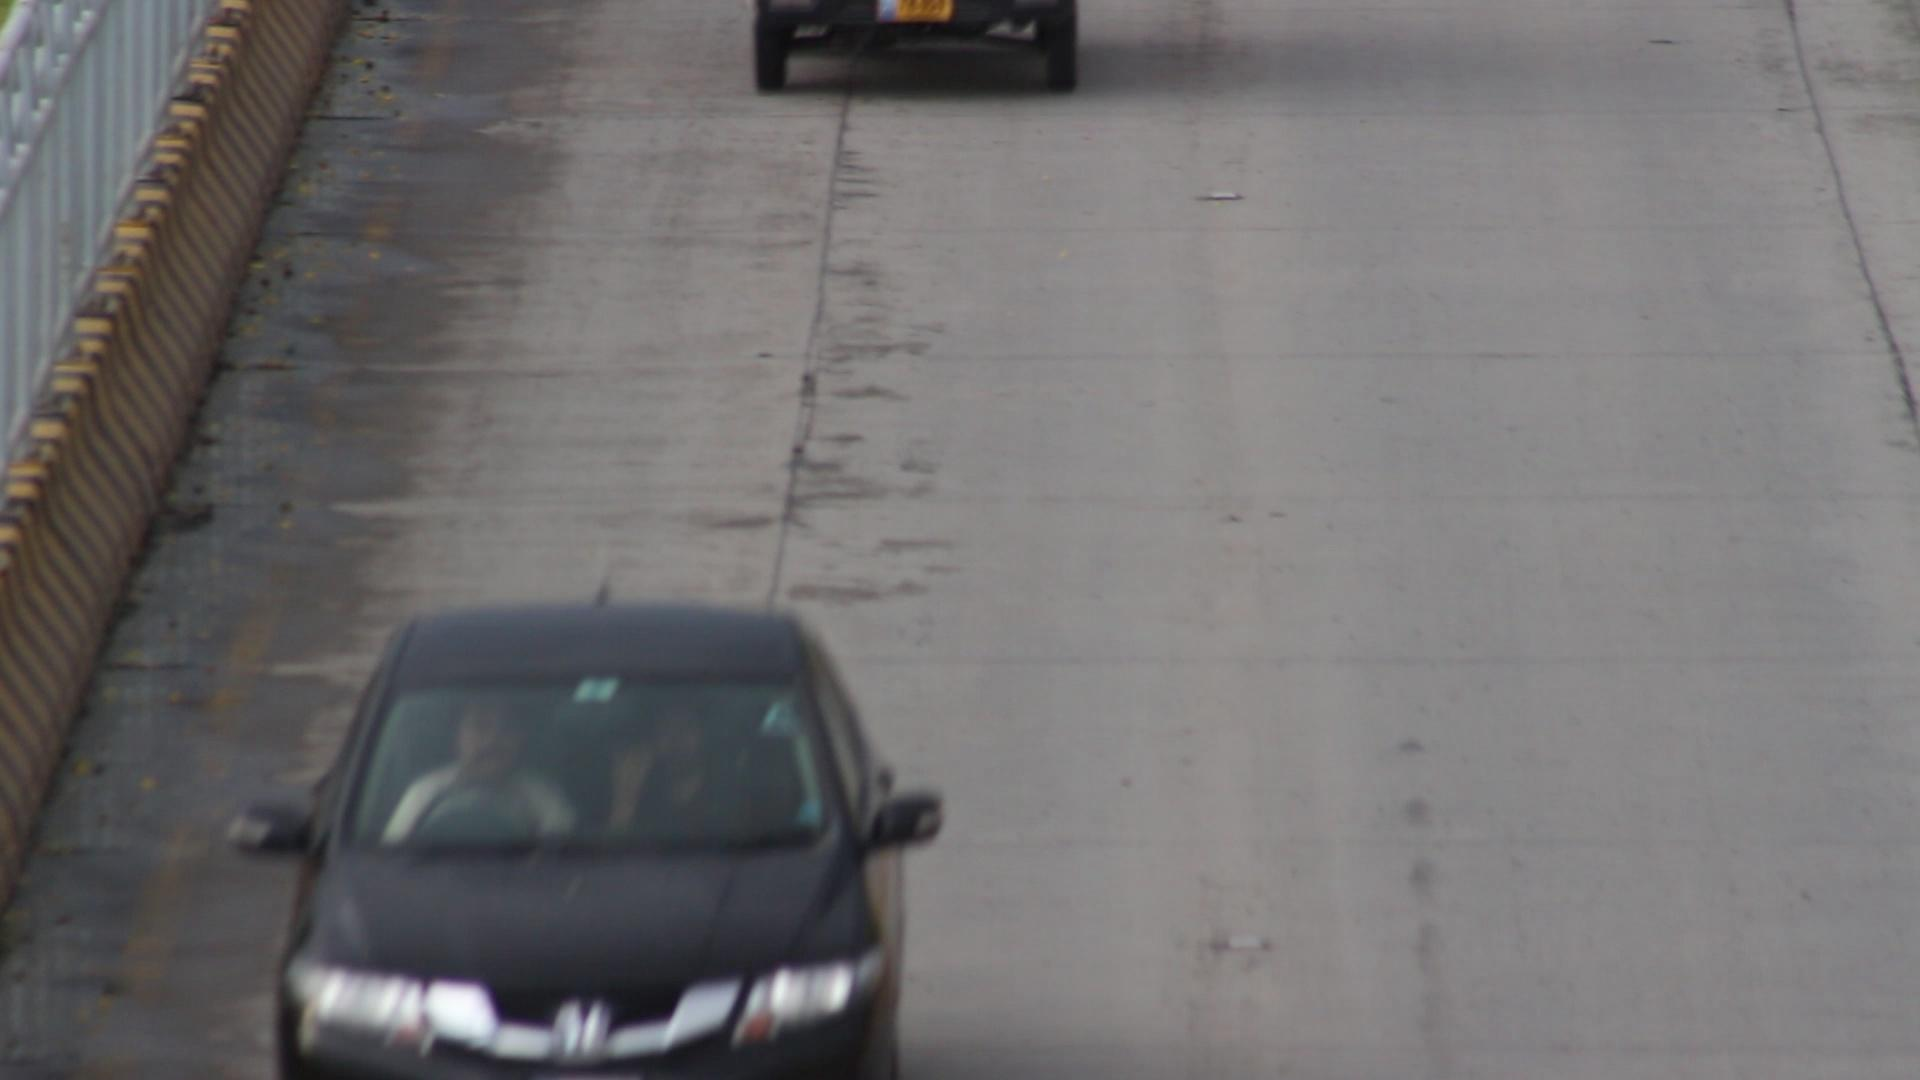windshield: (324, 670, 848, 860)
